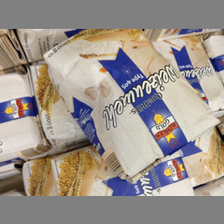flour: (42, 30, 219, 180)
